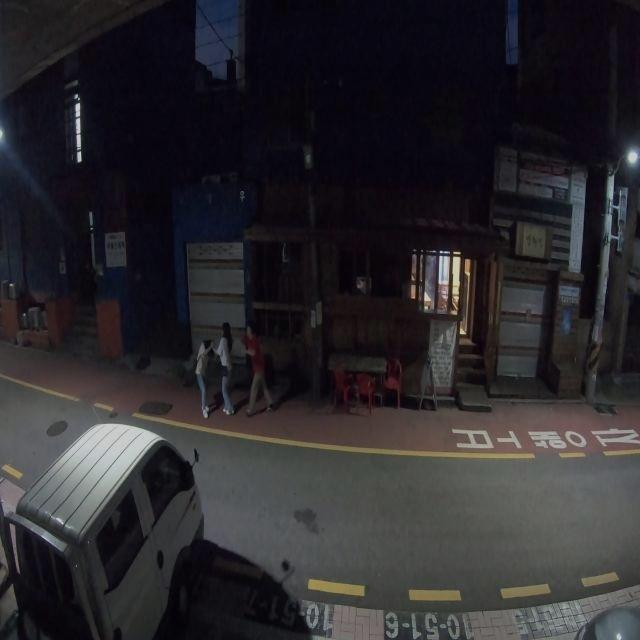fight: (191, 320, 236, 418)
non-fight: (239, 321, 276, 417)
